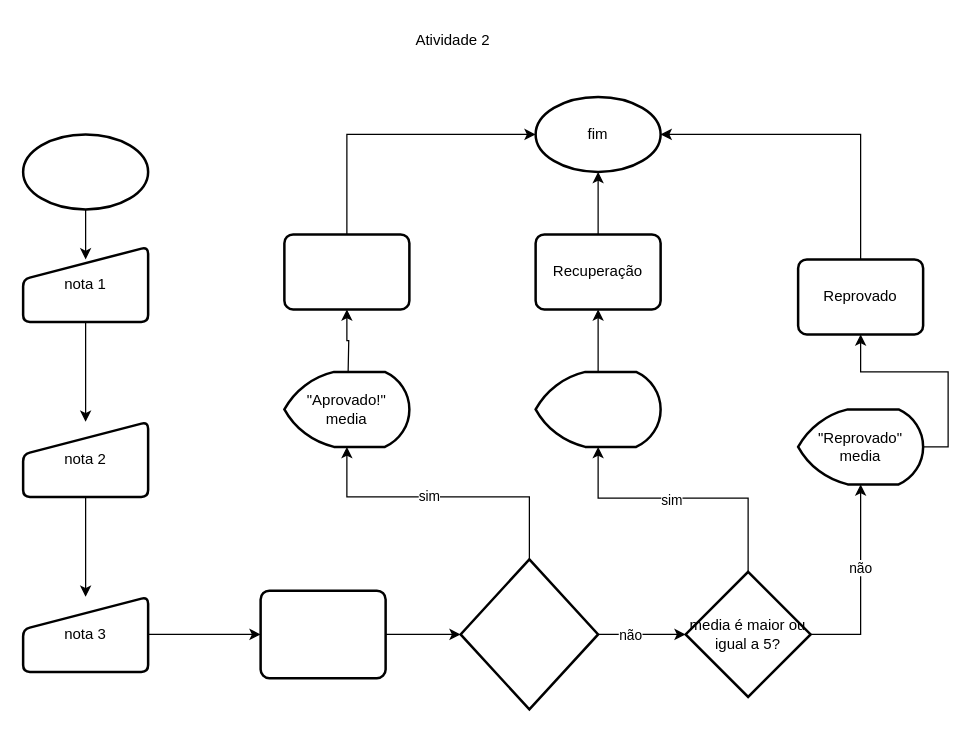
Image size: 980x731. Some labels were removed from this diagram. Each missing label, with the box of its shape:
"Recuperação" media: (534, 370, 661, 448)
Aprovado: (282, 232, 410, 310)
Inicio: (21, 132, 149, 210)
media = (nota1 + nota2 + nota3) / 3: (259, 589, 386, 679)
media é maior ou igual a 7?: (459, 558, 599, 710)
